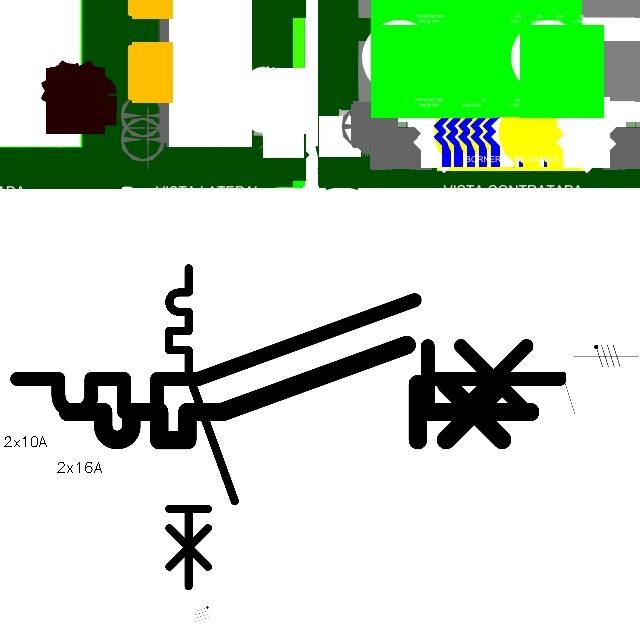interruptor_termomagnetico: (3, 286, 574, 426), (56, 333, 542, 452), (161, 260, 243, 594)
